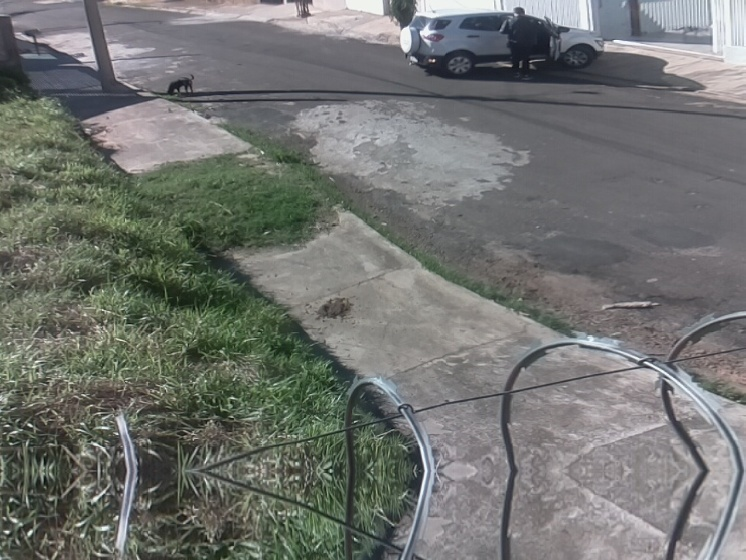person: (498, 6, 538, 82)
